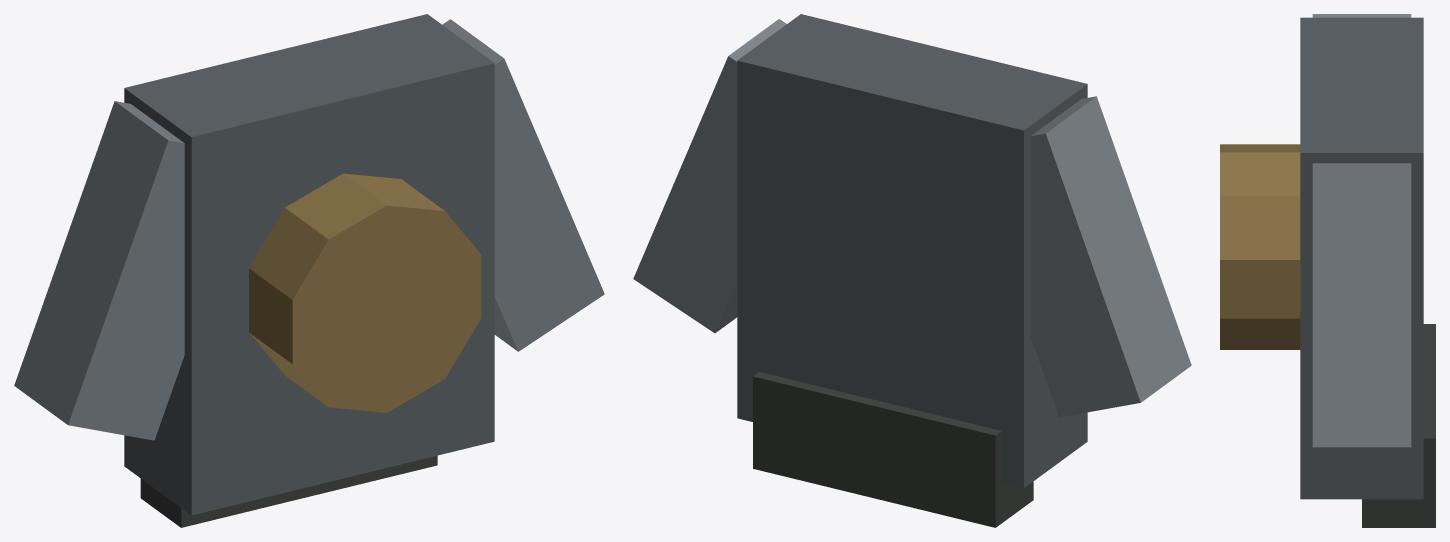
Rendered from item_kit_stabiliser.glb.
3 views of the same model, side by side, from view 1: azimuth 30°, elevation 25°; view 2: azimuth 150°, elevation 25°; view 3: azimuth 270°, elevation 25° (orthographic). The views are drawn at different scales.
Parts seen in each view (by area): view 1: frame, gyro, arm_l, arm_r, pad; view 2: frame, arm_l, pad, arm_r; view 3: frame, arm_r, gyro, pad, arm_l.
Boxes of the visible parts, x1,y1,x2,y2 form: frame: (124,14,494,515); gyro: (249,173,481,412); arm_l: (14,101,184,440); arm_r: (442,19,604,351); pad: (140,455,437,527); frame: (737,14,1087,488); arm_l: (1030,96,1191,417); pad: (753,372,1033,527); arm_r: (633,19,786,333); frame: (1300,17,1423,499); arm_r: (1312,163,1411,447); gyro: (1220,144,1300,349); pad: (1362,324,1435,527); arm_l: (1312,14,1411,17).
Bounding box in the file's own units: 0.9207 × 0.69 × 0.35.
